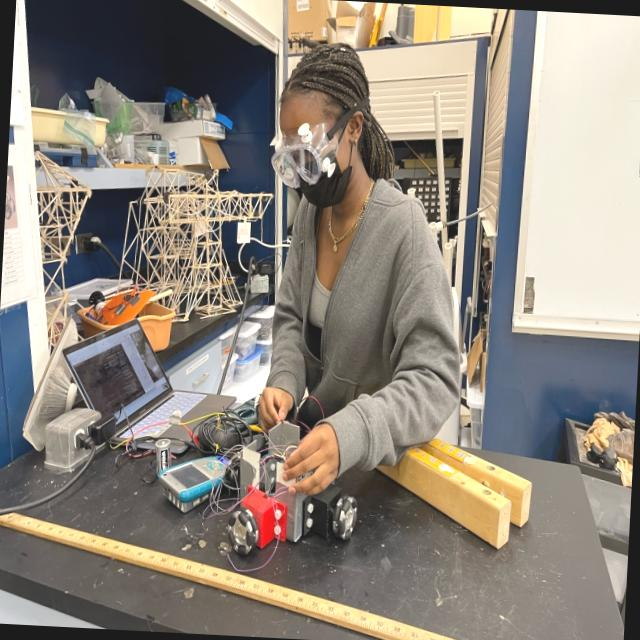goggles: (265, 110, 371, 198)
no-helmet: (274, 30, 380, 124)
no-vest: (276, 185, 421, 419)
